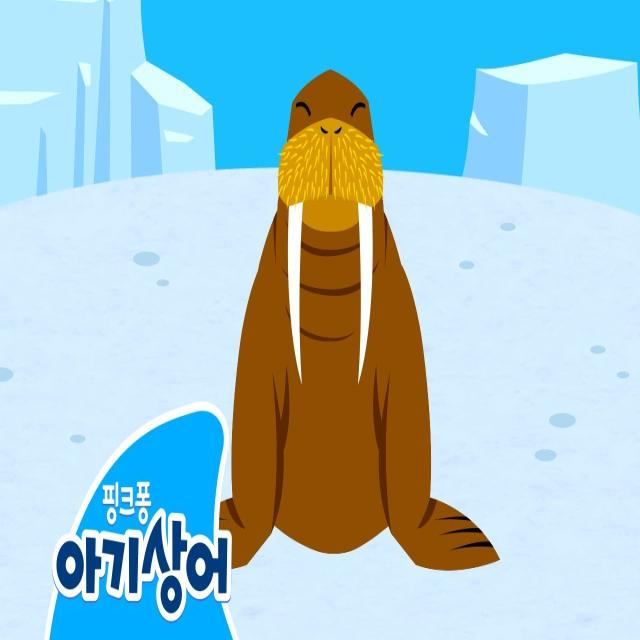walrus: (201, 43, 505, 610)
